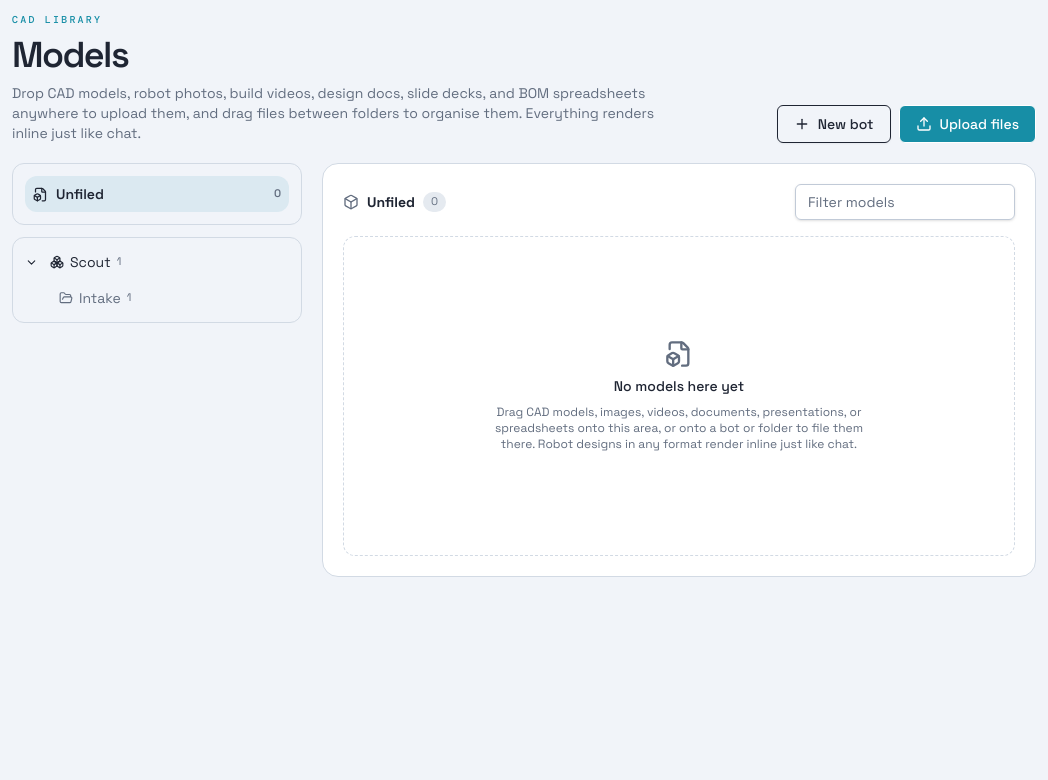
it: CAD README preview › does not fetch oversized READMEs and keeps the library-card download available
Click the button with test id "cad-folder-folder-intake" at [136, 298], box [59, 282, 214, 314]
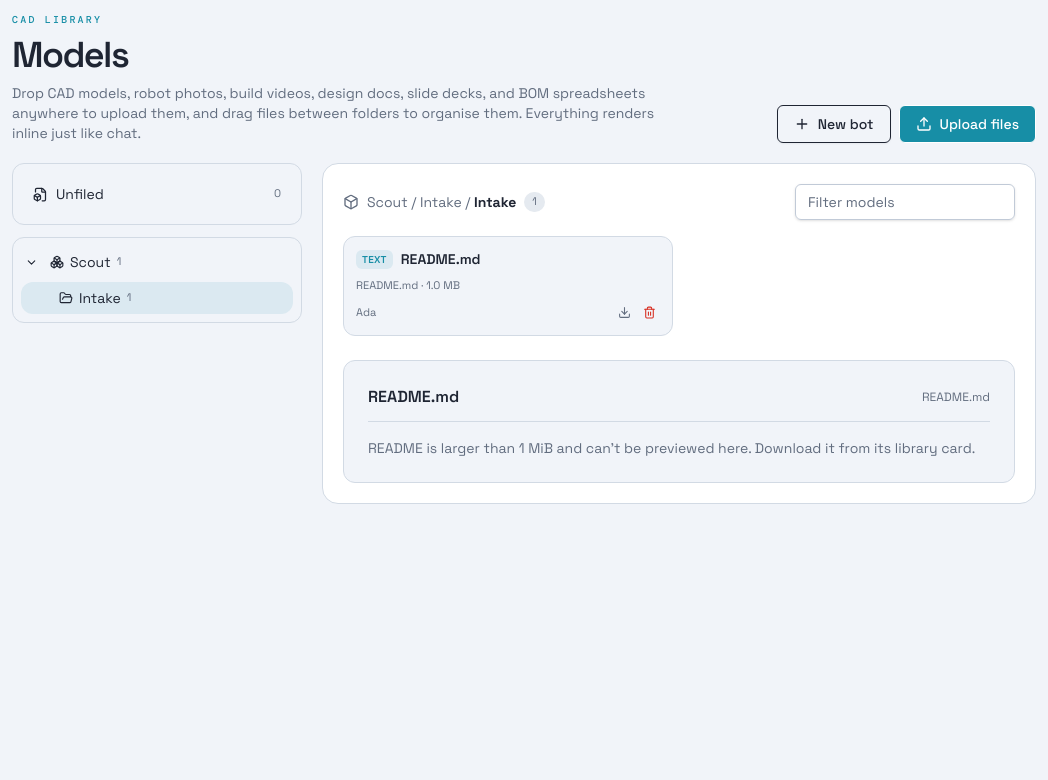
Check: the text with test id "cad-readme-too-large" shows "larger than 1 MiB", box [368, 438, 975, 456]
Check: the text with test id "cad-readme-too-large" shows "Download it from its library card", box [368, 438, 975, 456]
